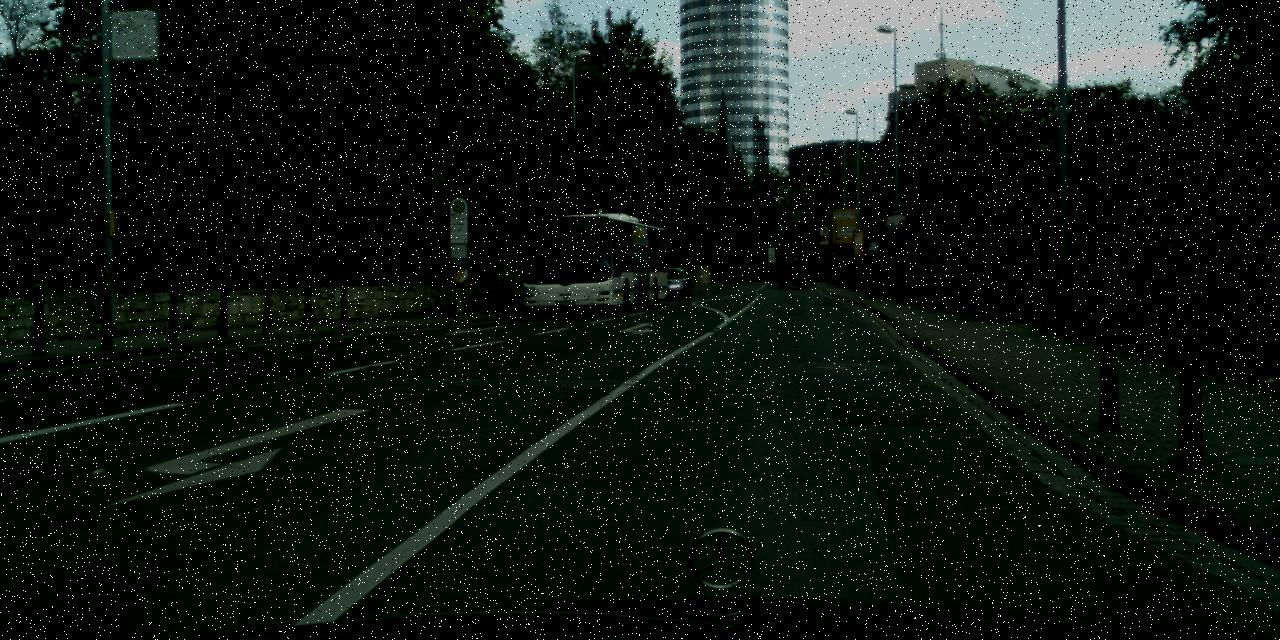ped: (816, 260, 824, 280)
